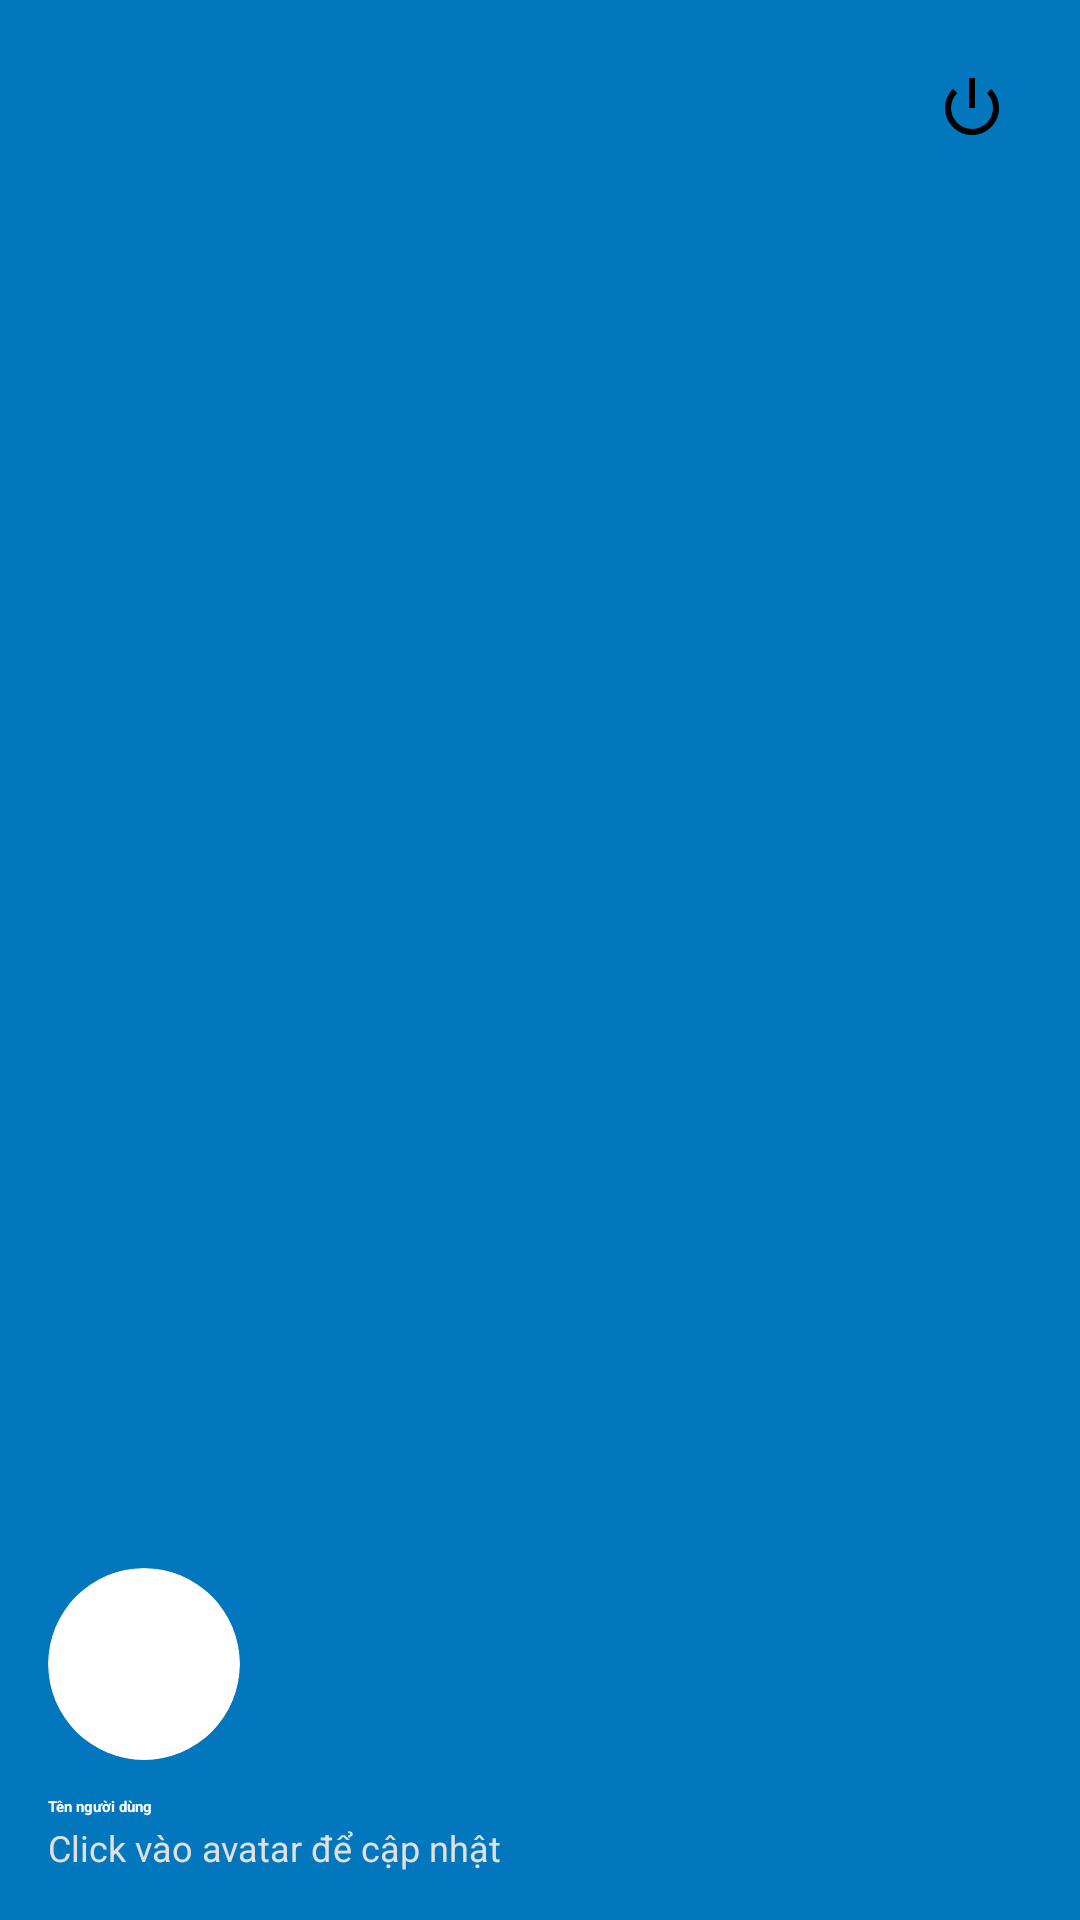

Named icons in this screenshot (1080 × 1920) and their centers, (x=x, y=y):
lock power off: (x=972, y=106)
